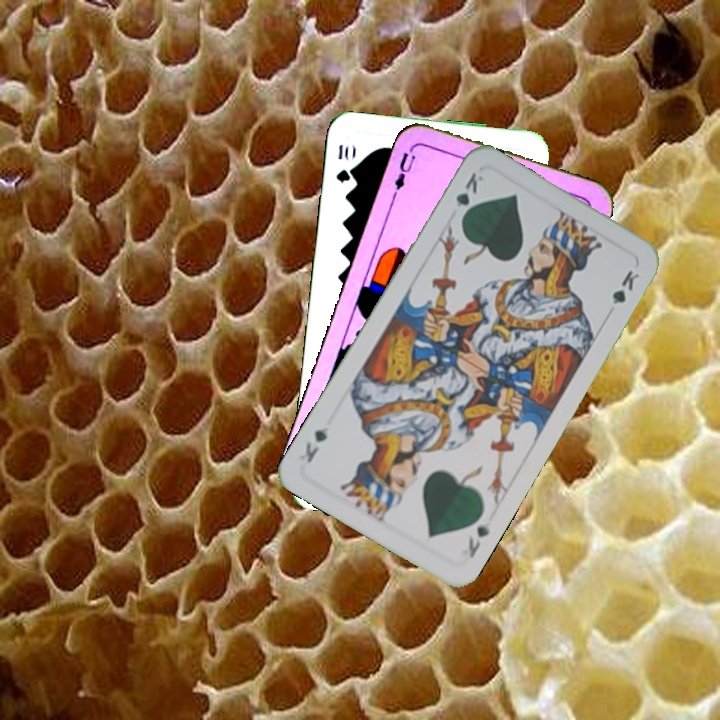EU: (389, 142, 419, 198)
G10: (332, 140, 353, 185)
GK: (451, 168, 487, 224), (464, 517, 493, 561)
